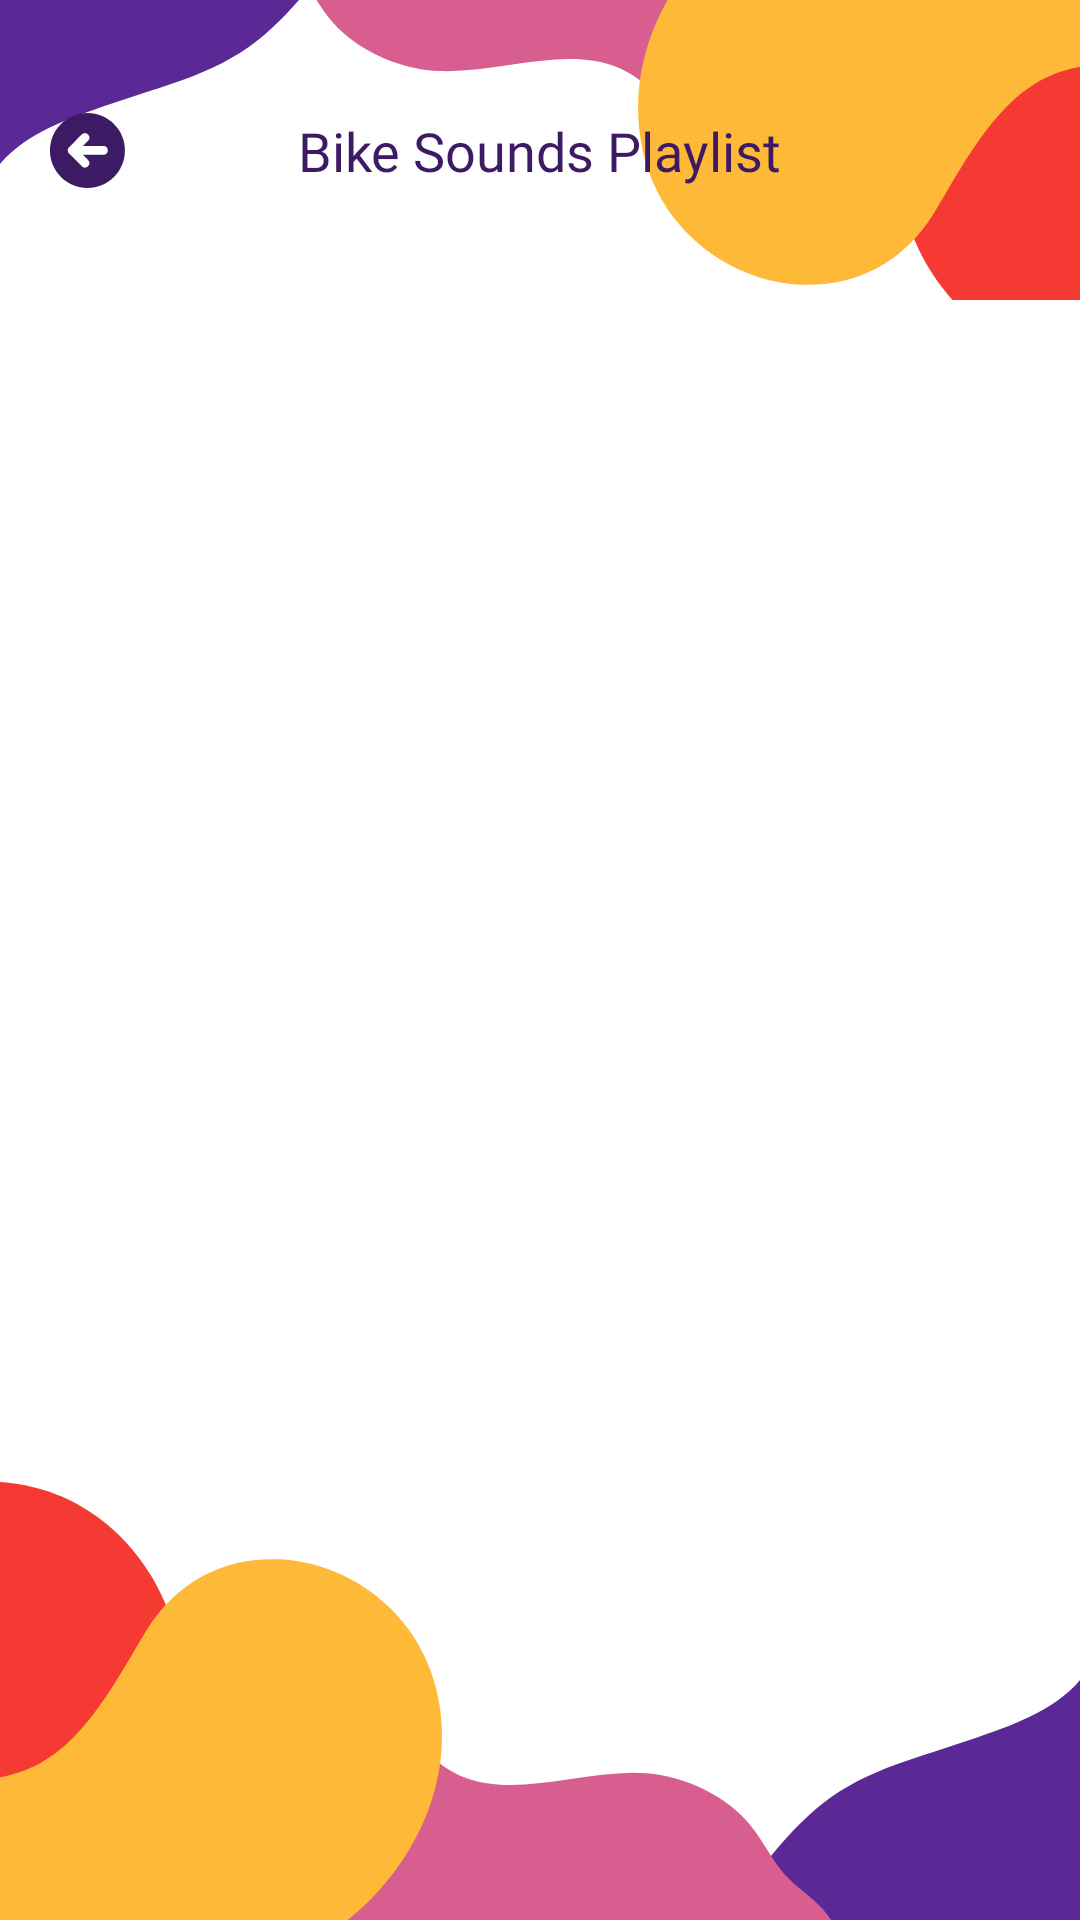

Icon click points for this 1080 x 1920 phone screenshot, format (x,y):
back: (86,150)
